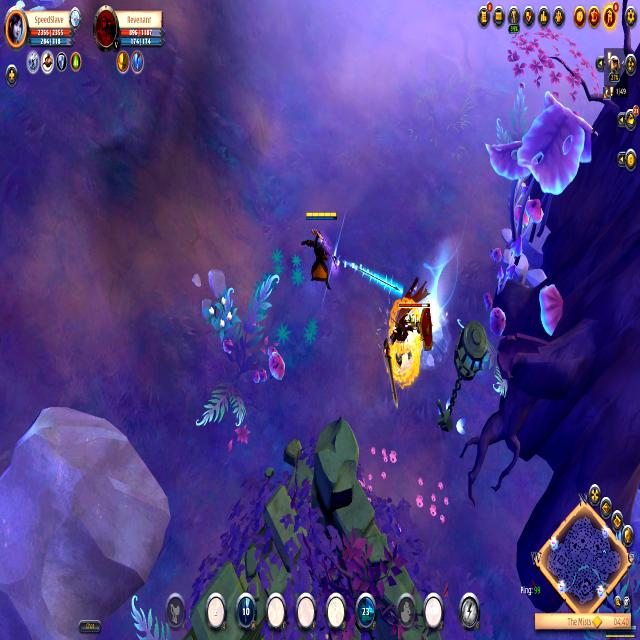10: (434, 317, 492, 435)
hide: (203, 280, 240, 350)
ore: (384, 290, 437, 407)
red: (299, 206, 340, 292)
